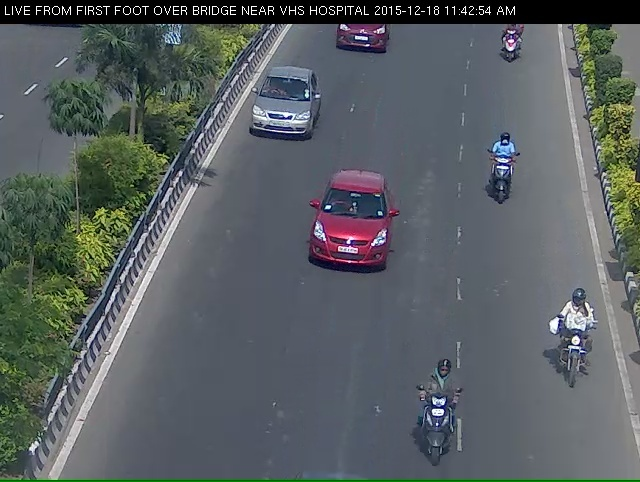Car: (290, 176, 394, 295), (242, 79, 328, 148), (330, 21, 404, 72)
Person: (543, 312, 607, 406), (398, 403, 471, 479), (478, 140, 523, 222), (496, 20, 534, 80)
